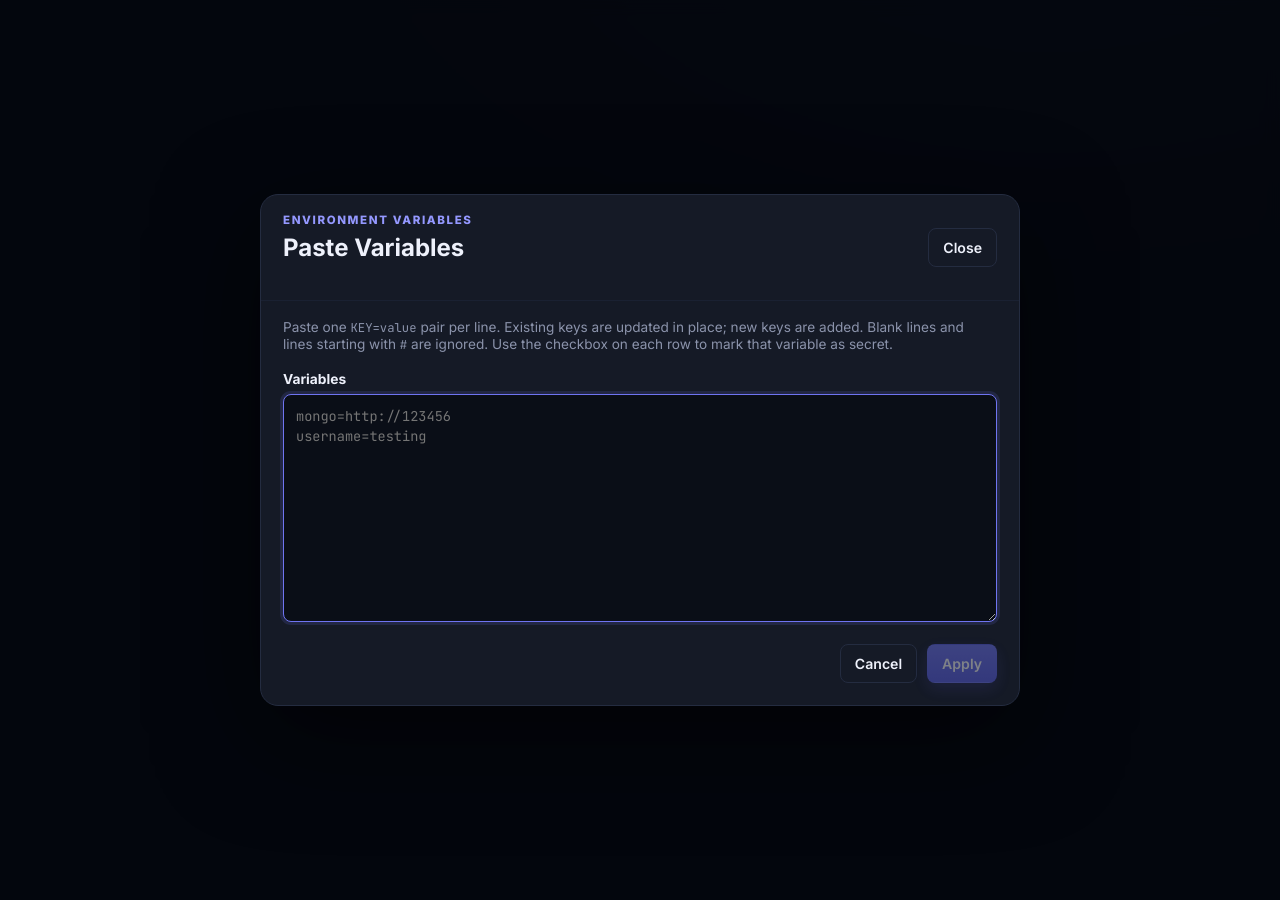
it: BulkEnvVarDialog › flags an invalid key and disables Apply
Type "1BAD=oops" into the text box with placeholder "mongo=http://123456 username=testing". click: (640, 508)
box: [283,394,997,622]
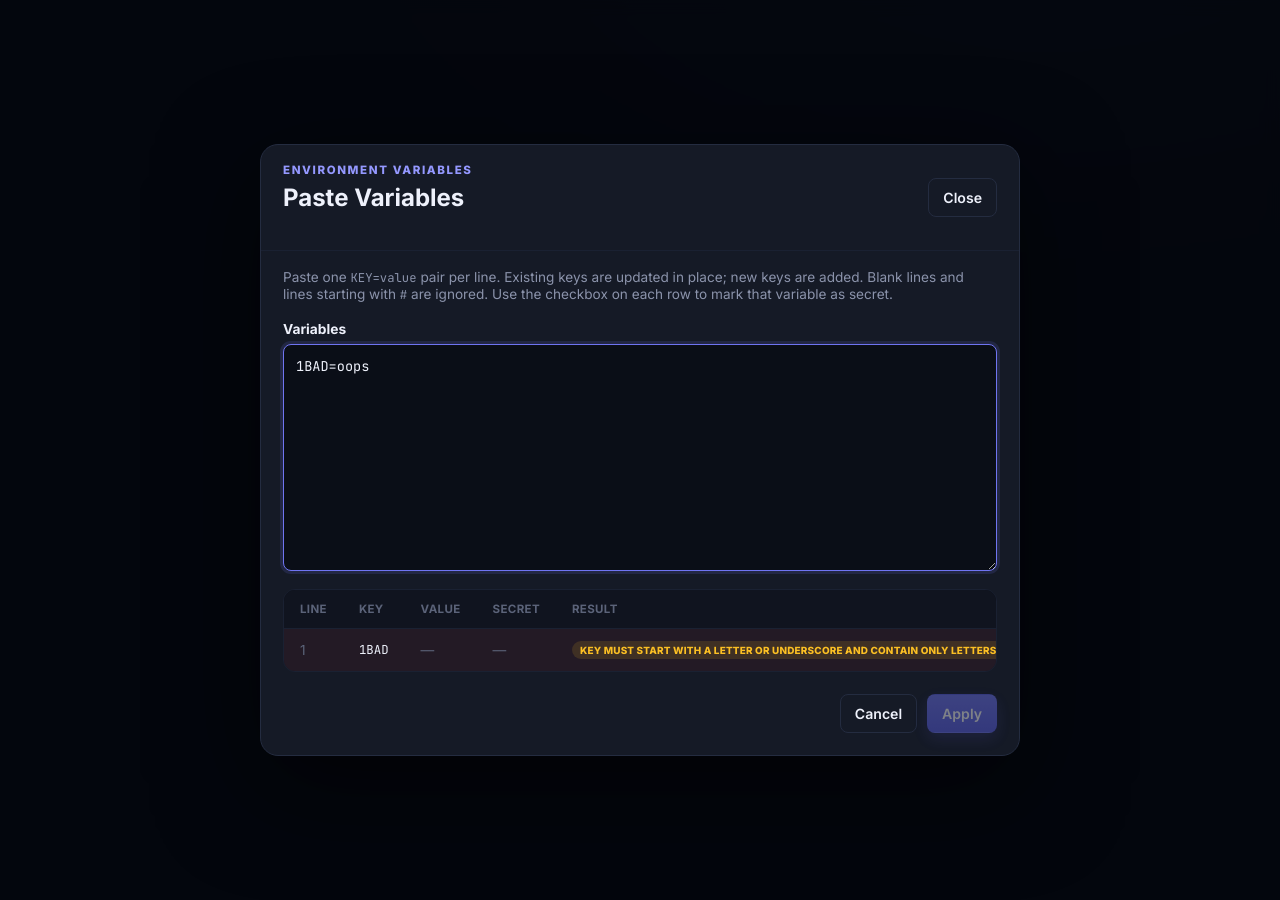
Expected: the button "Apply" is disabled, [927,694,997,733]
Now the text "must start with a letter or underscore" is shown, box [580,644,997,656]
